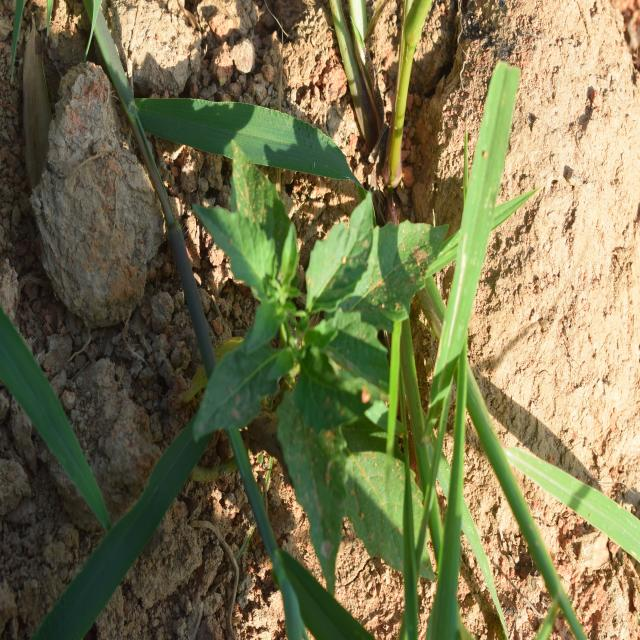Black_nightshade: (200, 162, 394, 536)
